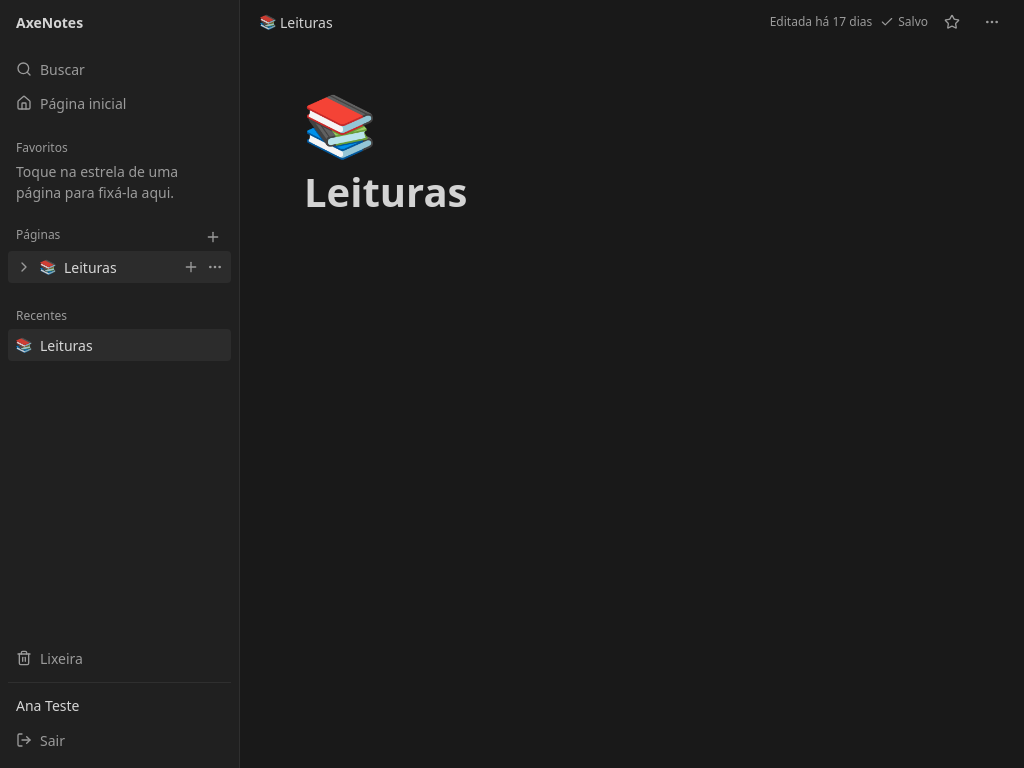
Test: título da página › changes the icon and can remove it
Step 1. Click the button named "Alterar ícone da página" → x=340, y=124, box x1=304 y1=92 x2=376 y2=156
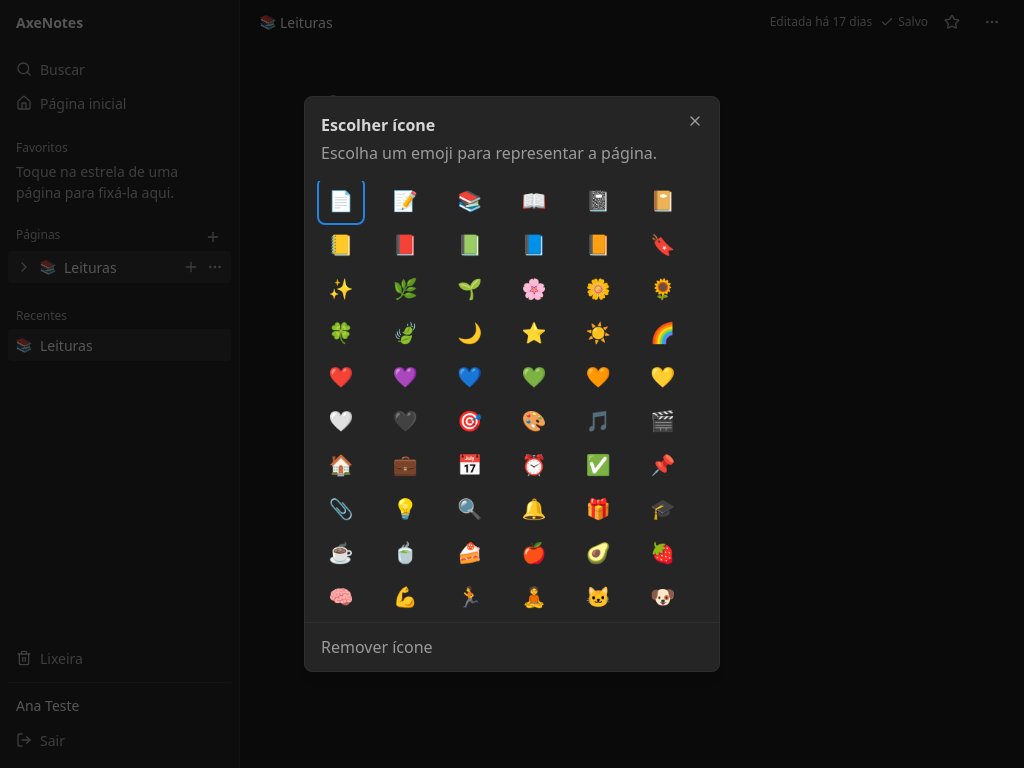
Step 2. Click the button named "Usar 🌿" → x=405, y=289, box x1=385 y1=269 x2=425 y2=309
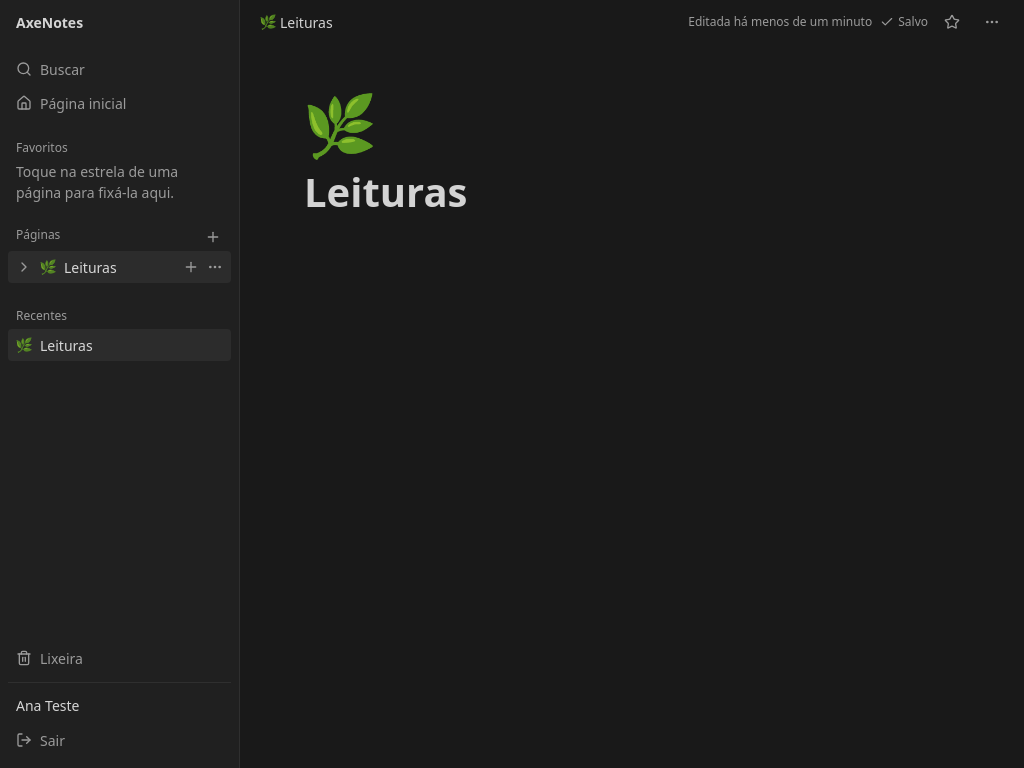
Step 3. Click the button named "Alterar ícone da página" → x=340, y=124, box x1=304 y1=92 x2=376 y2=156
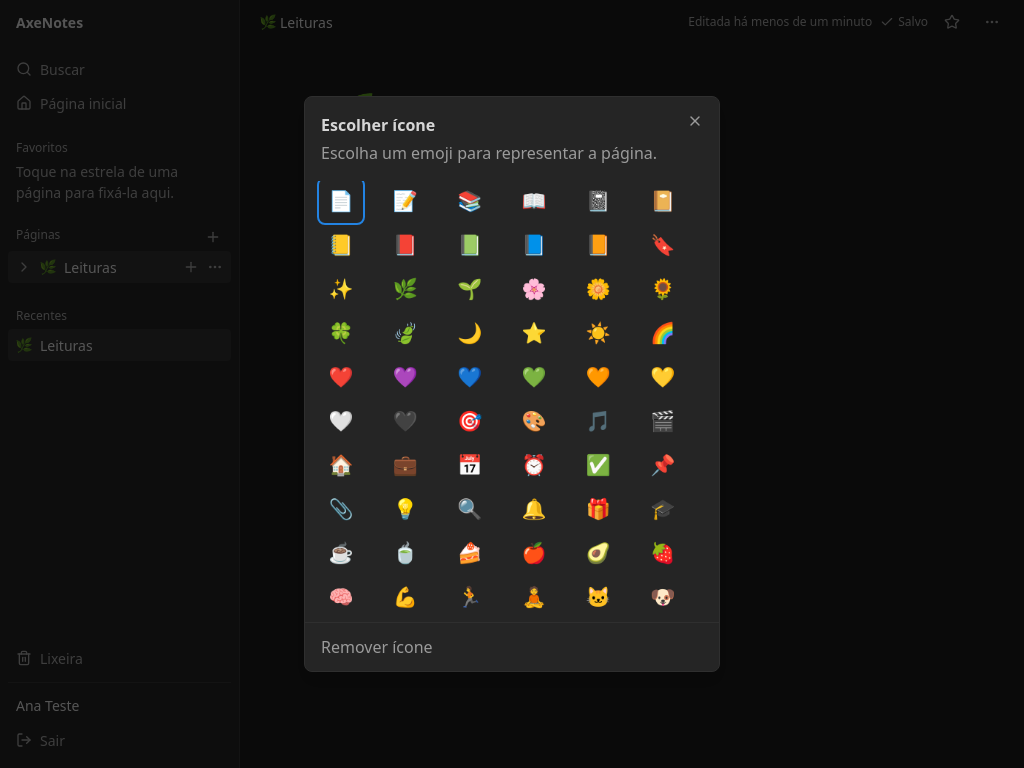
Step 4. Click the button "Remover ícone" → x=377, y=647, box x1=313 y1=631 x2=711 y2=663
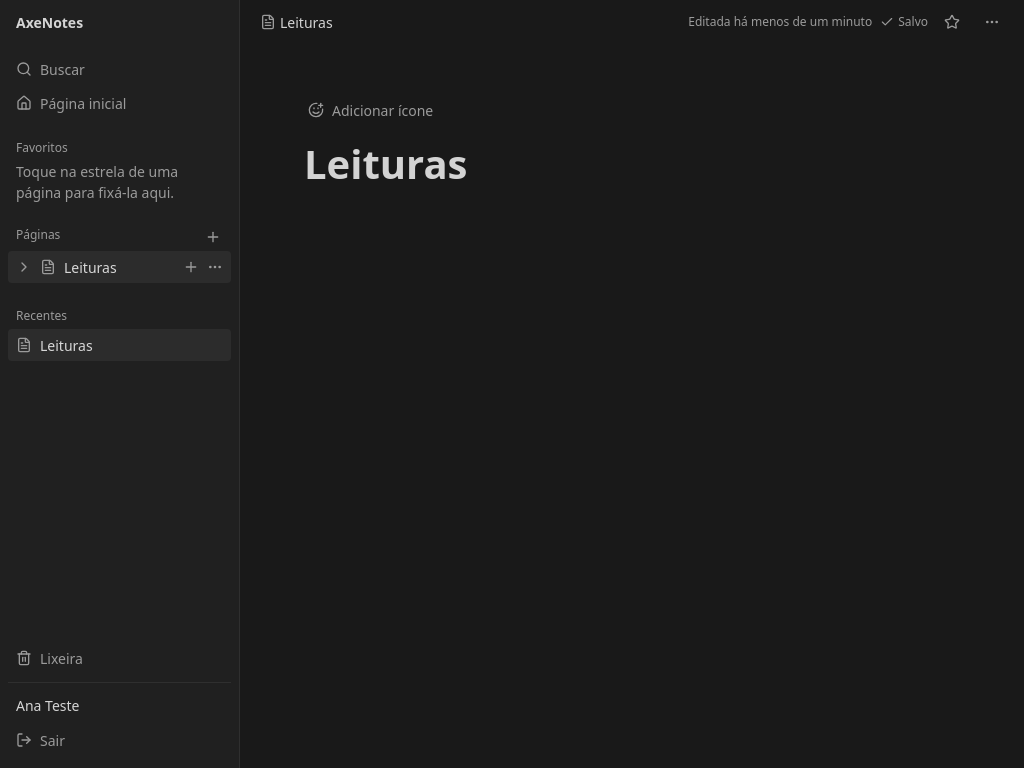
Now the button "Adicionar ícone" is shown, box x1=304 y1=92 x2=437 y2=128
